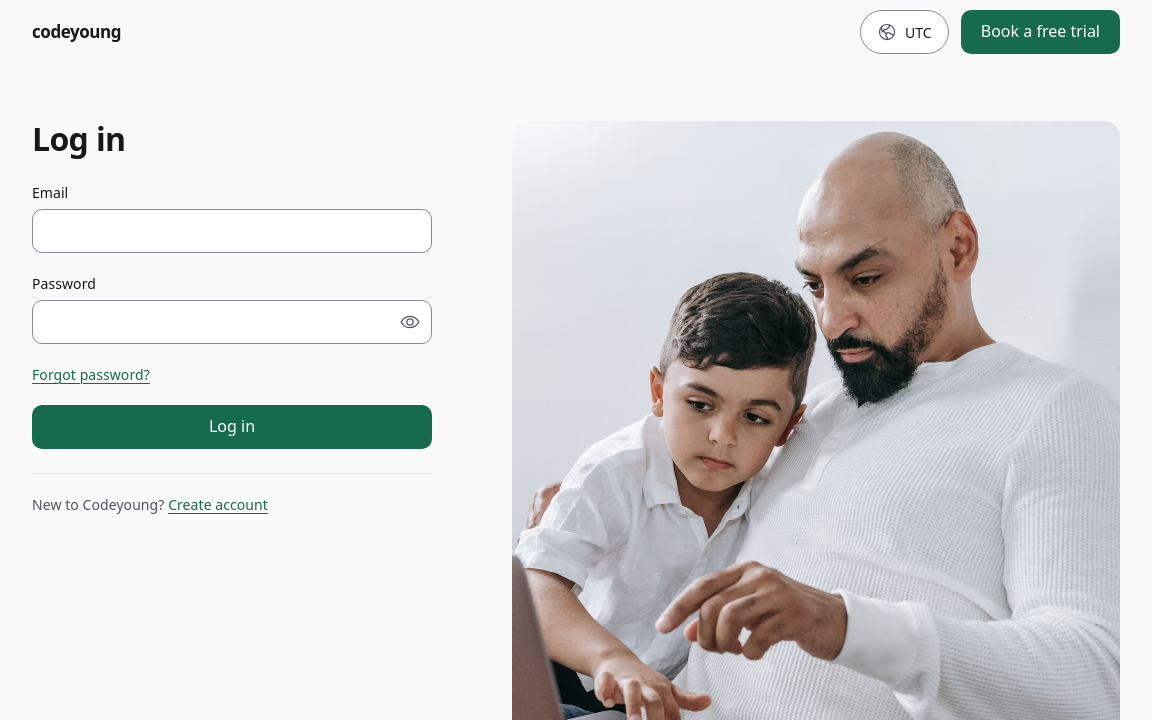
Test: log in › checks the fields with our copy and summarises several problems
Expected: the heading "Log in" is shown, [32,117,125,160]
Click the button "Log in" at point(232, 427), box [32,405,432,449]
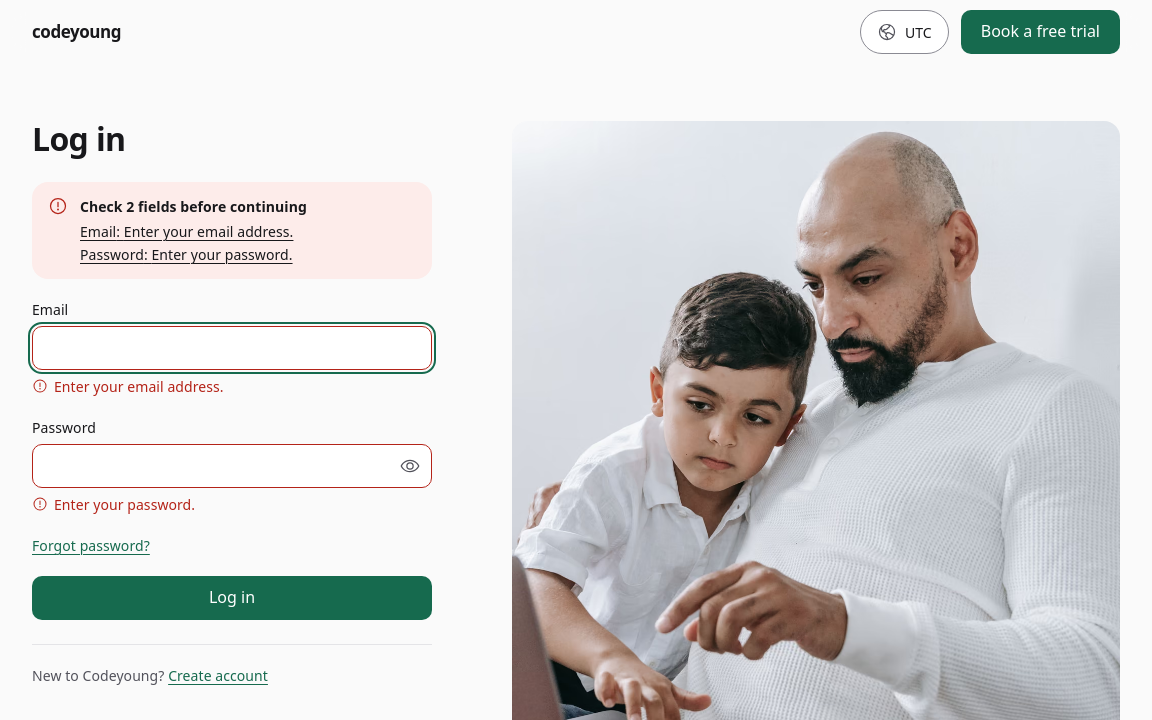
Expected: the text "Check 2 fields before continuing" is shown, [80,196,307,217]
